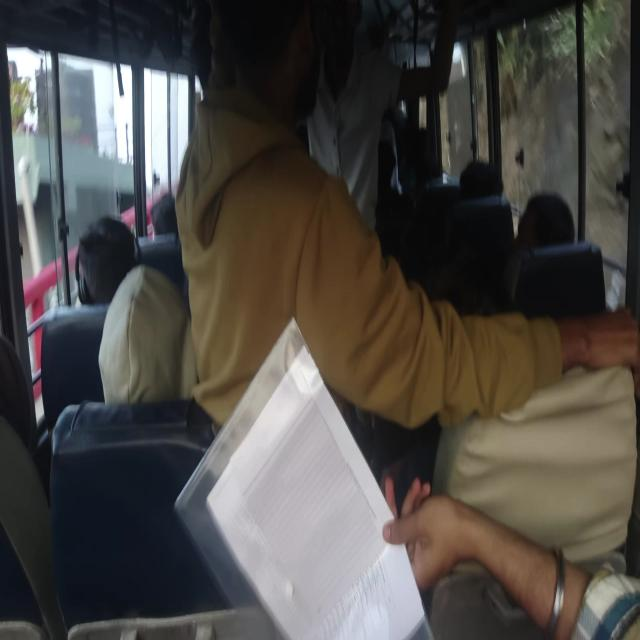person: (174, 1, 638, 445), (382, 475, 639, 638), (98, 262, 197, 406), (74, 215, 140, 306)
